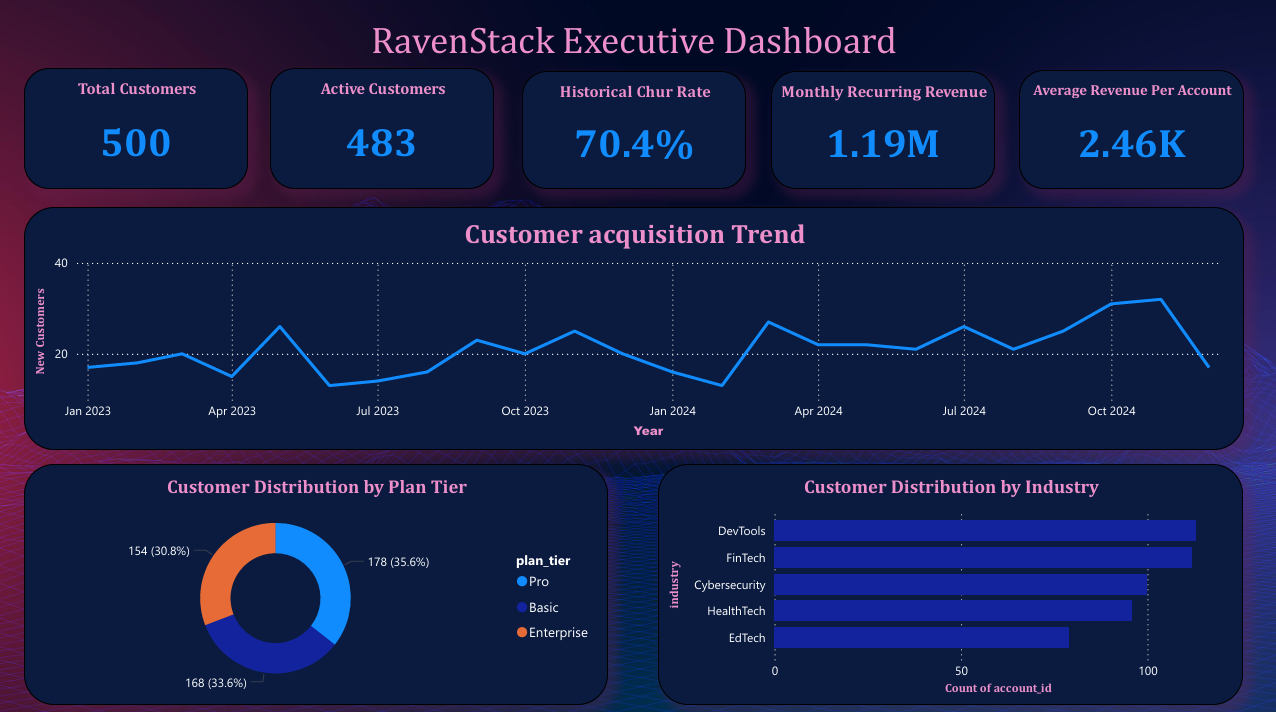

Layout of this report page (visuals, bound fields, positions):
{"tool":"powerbi","page":{"name":"Executive Overview","canvas":[1280,720],"ordinal":0},"visuals":[{"type":"card","title":"Total Customers","fields":{"Values":["Sum(ravenstack_analytics vw_executive_metrics.total_customers)"]},"box":[24.5,68.9,223.9,120.7],"z":0},{"type":"lineChart","title":"Customer acquisition Trend","fields":{"Y":["CountNonNull(ravenstack_analytics accounts.account_id)"],"Category":["ravenstack_analytics accounts.signup_date.Variation.Date Hierarchy.Year","ravenstack_analytics accounts.signup_date.Variation.Date Hierarchy.Month"]},"box":[24.1,207.7,1219.5,243.1],"z":1000},{"type":"donutChart","title":"Customer Distribution by Plan Tier","fields":{"Category":["ravenstack_analytics accounts.plan_tier"],"Y":["CountNonNull(ravenstack_analytics accounts.account_id)"]},"box":[24.1,465,584.1,240.5],"z":2000},{"type":"barChart","title":"Customer Distribution by Industry","fields":{"Category":["ravenstack_analytics accounts.industry"],"Y":["CountNonNull(ravenstack_analytics accounts.account_id)"]},"box":[658.5,465,584.1,240.5],"z":3000},{"type":"card","title":"Active Customers","fields":{"Values":["Sum(ravenstack_analytics vw_executive_metrics.active_customers)"]},"box":[270,69,224,121],"z":4000},{"type":"card","title":"Historical Chur Rate","fields":{"Values":["Sum(ravenstack_analytics vw_executive_metrics.churn_rate)"]},"box":[522,72,224,118],"z":5000},{"type":"card","title":"Monthly Recurring Revenue","fields":{"Values":["Sum(ravenstack_analytics vw_executive_metrics.total_mrr)"]},"box":[771,72,224,118],"z":6000},{"type":"card","title":"Average Revenue Per Account","fields":{"Values":["Sum(ravenstack_analytics vw_executive_metrics.arpa)"]},"box":[1019.4,70.9,224.1,119],"z":7000},{"type":"textbox","box":[24.1,13.9,1219.5,58.3],"z":8000}]}

Visuals, with their boxes in screenshot pixels (x1, y1, x2, y2), scaled from the page's 1280x720 canvas onto the 1276x712 screenshot:
"Total Customers" card: {"x1": 24, "y1": 68, "x2": 248, "y2": 187}
"Customer acquisition Trend" lineChart: {"x1": 24, "y1": 205, "x2": 1240, "y2": 446}
"Customer Distribution by Plan Tier" donutChart: {"x1": 24, "y1": 460, "x2": 606, "y2": 698}
"Customer Distribution by Industry" barChart: {"x1": 656, "y1": 460, "x2": 1239, "y2": 698}
"Active Customers" card: {"x1": 269, "y1": 68, "x2": 492, "y2": 188}
"Historical Chur Rate" card: {"x1": 520, "y1": 71, "x2": 744, "y2": 188}
"Monthly Recurring Revenue" card: {"x1": 769, "y1": 71, "x2": 992, "y2": 188}
"Average Revenue Per Account" card: {"x1": 1016, "y1": 70, "x2": 1240, "y2": 188}
textbox: {"x1": 24, "y1": 14, "x2": 1240, "y2": 71}
